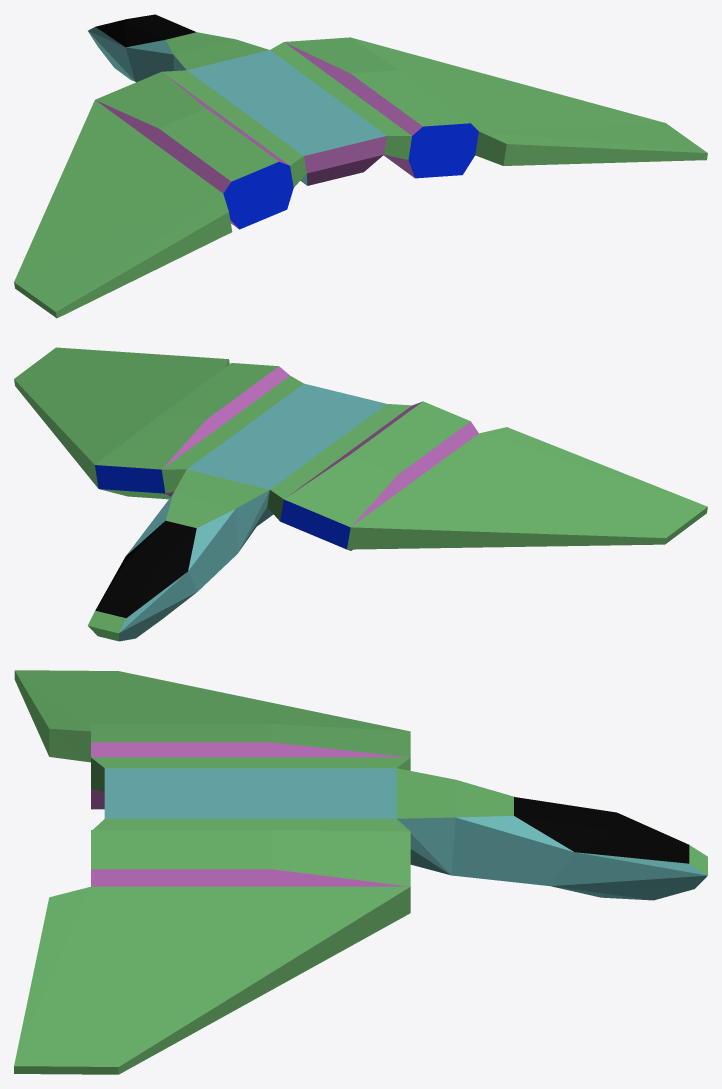
File: ship_tessellated.obj
The picture shows the model from 3 angles, top to bottom: view 1: azimuth 30°, elevation 25°; view 2: azimuth 150°, elevation 25°; view 3: azimuth 270°, elevation 25°; orthographic projection. The views are drawn at different scales.
Visible parts, largest first — view 1: WingB01, WingA01, B_Torna, BoosterB02, BoosterA02, glow01, glow02, HalterA01, HalterB01, Cockpit02, BoosterB01, Heck01 (+3 smaller); view 2: WingB01, WingA01, B_Torna, BoosterB02, BoosterA02, Cockpit02, Glas01, Cockpit01, HalterB01, HalterA01, BoosterB01, BoosterA01 (+2 smaller); view 3: WingA01, B_Torna, Cockpit02, WingB01, BoosterA02, BoosterB02, Glas01, Cockpit01, BoosterA01, BoosterB01, HalterB01, HalterA01.
Part boxes in pixels (x1,y1,x2,y2): WingB01: (14, 100, 232, 318); WingA01: (351, 37, 707, 165); B_Torna: (187, 50, 386, 185); BoosterB02: (95, 72, 278, 181); BoosterA02: (284, 37, 470, 126); glow01: (408, 123, 478, 178); glow02: (223, 161, 293, 229); HalterA01: (270, 42, 411, 159); HalterB01: (162, 70, 306, 187); Cockpit02: (88, 27, 186, 82); BoosterB01: (96, 73, 289, 228); Heck01: (304, 136, 386, 185); WingB01: (347, 427, 707, 549); WingA01: (14, 347, 229, 488); B_Torna: (187, 383, 386, 526); BoosterB02: (284, 401, 470, 527); BoosterA02: (95, 363, 278, 499); Cockpit02: (119, 490, 269, 641); Glas01: (95, 520, 196, 618); Cockpit01: (87, 469, 269, 641); HalterB01: (267, 404, 411, 521); HalterA01: (162, 375, 303, 493); BoosterB01: (286, 401, 478, 550); BoosterA01: (162, 366, 289, 496); WingA01: (14, 886, 410, 1074); B_Torna: (104, 768, 396, 818); Cockpit02: (397, 788, 707, 900); WingB01: (14, 670, 408, 762); BoosterA02: (91, 830, 410, 886); BoosterB02: (91, 724, 410, 757); Glas01: (514, 797, 689, 863); Cockpit01: (396, 768, 707, 875); BoosterA01: (91, 869, 408, 886); BoosterB01: (91, 742, 407, 809); HalterB01: (91, 757, 410, 792); HalterA01: (93, 818, 409, 831).
Size of the model in its own units: 48.39 by 6.14 by 35.84.
